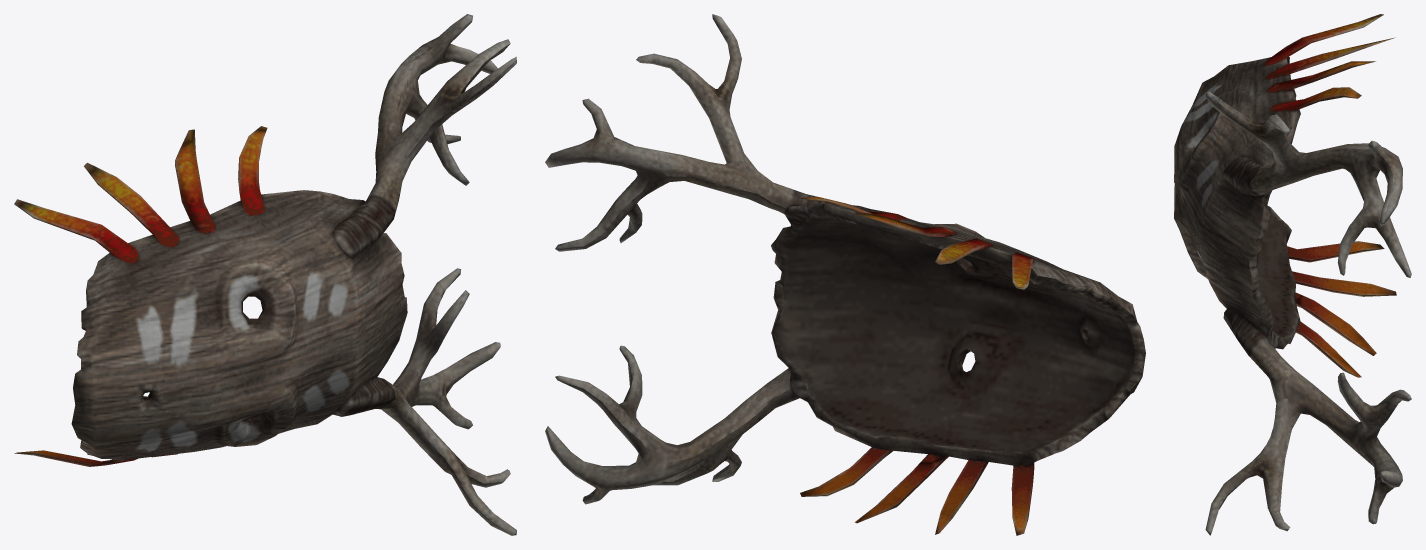
Rendered from M_TikiMask.fbx.
The picture shows the model from 3 angles, left to right: view 1: azimuth 30°, elevation 25°; view 2: azimuth 150°, elevation 25°; view 3: azimuth 270°, elevation 25°; orthographic projection. The views are drawn at different scales.
Parts seen in each view (by area): view 1: Mask5; view 2: Mask5; view 3: Mask5.
Part boxes in pixels (bbox=[...]): Mask5: bbox=[14, 14, 516, 535]; Mask5: bbox=[545, 14, 1145, 535]; Mask5: bbox=[1174, 14, 1411, 535].
Bounding box in the file's own units: 0.2569 × 0.226 × 0.1101.
